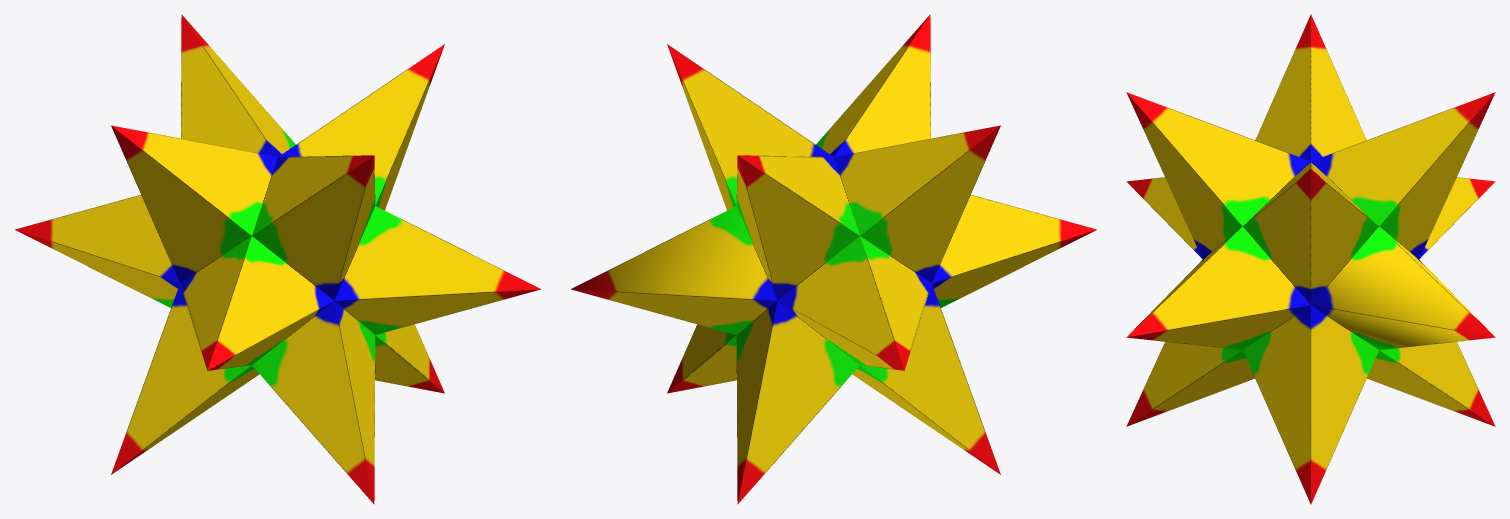
File: great-rhombicosacron.glb
The picture shows the model from 3 angles, left to right: view 1: azimuth 30°, elevation 25°; view 2: azimuth 150°, elevation 25°; view 3: azimuth 270°, elevation 25°; orthographic projection. The views are drawn at different scales.
Parts seen in each view (by area): view 1: Great Rhombihexacron (Dual of 8/3.4.8/5.4/3), WD103, p60; view 2: Great Rhombihexacron (Dual of 8/3.4.8/5.4/3), WD103, p60; view 3: Great Rhombihexacron (Dual of 8/3.4.8/5.4/3), WD103, p60.
Part boxes in pixels (box(x1,y1,x2,y2)): Great Rhombihexacron (Dual of 8/3.4.8/5.4/3), WD103, p60: box(15, 14, 540, 504); Great Rhombihexacron (Dual of 8/3.4.8/5.4/3), WD103, p60: box(571, 14, 1096, 504); Great Rhombihexacron (Dual of 8/3.4.8/5.4/3), WD103, p60: box(1126, 14, 1495, 504).
Bounding box in the file's own units: 37.61 × 37.61 × 37.61.
Materials: 1 (1 with a texture image).
